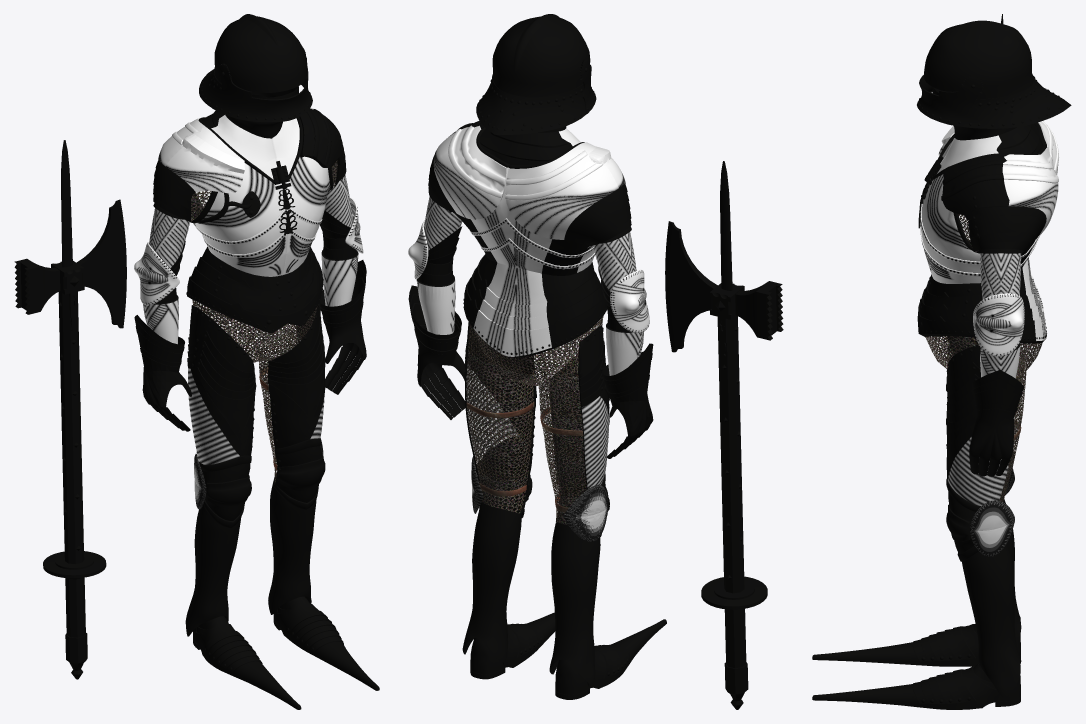
File: armor.FBX
3 views of the same model, side by side, from view 1: azimuth 30°, elevation 25°; view 2: azimuth 150°, elevation 25°; view 3: azimuth 270°, elevation 25° (orthographic). The views are drawn at different scales.
Parts seen in each view (by area): view 1: ERZAXE, ERZPET, ERZPIR09, ERZCUE, ERZCASC, ERZPIR01, ERZPIR07, ERZHOM12, ERZPIR08, ERZBRAZ, ERZZAP, ERZZAP01 (+16 smaller); view 2: ERZAXE, ERZCASC, ERZCUE, ERZHOM12, ERZPIC01, ERZPET, ERZPIR08, ERZPIR07, ERZPIR09, ERZPIC02, ERZHOM06, ERZPIR01 (+14 smaller); view 3: ERZCASC, ERZPET, ERZHOM06, ERZPIR07, ERZPIR01, ERZCUE, ERZZAP, ERZZAP01, ERZGUA01, ERZCOD, ERZBRAZ, ERZBOZA (+15 smaller).
Part boxes in pixels (x1=…): ERZAXE: x1=14, y1=140, x2=126, y2=679; ERZPET: x1=190, y1=94, x2=333, y2=276; ERZPIR09: x1=187, y1=305, x2=256, y2=464; ERZCUE: x1=186, y1=246, x2=323, y2=333; ERZCASC: x1=199, y1=14, x2=306, y2=107; ERZPIR01: x1=268, y1=303, x2=325, y2=448; ERZPIR07: x1=268, y1=474, x2=316, y2=614; ERZHOM12: x1=158, y1=118, x2=244, y2=193; ERZPIR08: x1=185, y1=504, x2=241, y2=636; ERZBRAZ: x1=320, y1=160, x2=358, y2=306; ERZZAP: x1=273, y1=596, x2=379, y2=690; ERZZAP01: x1=193, y1=616, x2=301, y2=709; ERZAXE: x1=665, y1=161, x2=783, y2=709; ERZCASC: x1=476, y1=14, x2=590, y2=134; ERZCUE: x1=463, y1=254, x2=607, y2=357; ERZHOM12: x1=505, y1=142, x2=625, y2=239; ERZPIC01: x1=466, y1=324, x2=533, y2=513; ERZPET: x1=453, y1=128, x2=594, y2=275; ERZPIR08: x1=549, y1=522, x2=600, y2=685; ERZPIR07: x1=462, y1=502, x2=521, y2=662; ERZPIR09: x1=549, y1=325, x2=609, y2=489; ERZPIC02: x1=538, y1=343, x2=586, y2=524; ERZHOM06: x1=433, y1=121, x2=509, y2=219; ERZPIR01: x1=464, y1=322, x2=536, y2=467; ERZCASC: x1=923, y1=20, x2=1071, y2=128; ERZPET: x1=920, y1=123, x2=1042, y2=283; ERZHOM06: x1=941, y1=147, x2=1058, y2=235; ERZPIR07: x1=962, y1=544, x2=1021, y2=697; ERZPIR01: x1=946, y1=345, x2=1014, y2=506; ERZCUE: x1=917, y1=239, x2=1046, y2=343; ERZZAP: x1=812, y1=663, x2=1020, y2=709; ERZZAP01: x1=812, y1=624, x2=1020, y2=666; ERZGUA01: x1=969, y1=370, x2=1023, y2=460; ERZCOD: x1=973, y1=293, x2=1024, y2=356; ERZBRAZ: x1=978, y1=249, x2=1023, y2=378; ERZBOZA: x1=917, y1=75, x2=983, y2=128.
Bounding box in the file's own units: 114 × 197 × 70.51.
